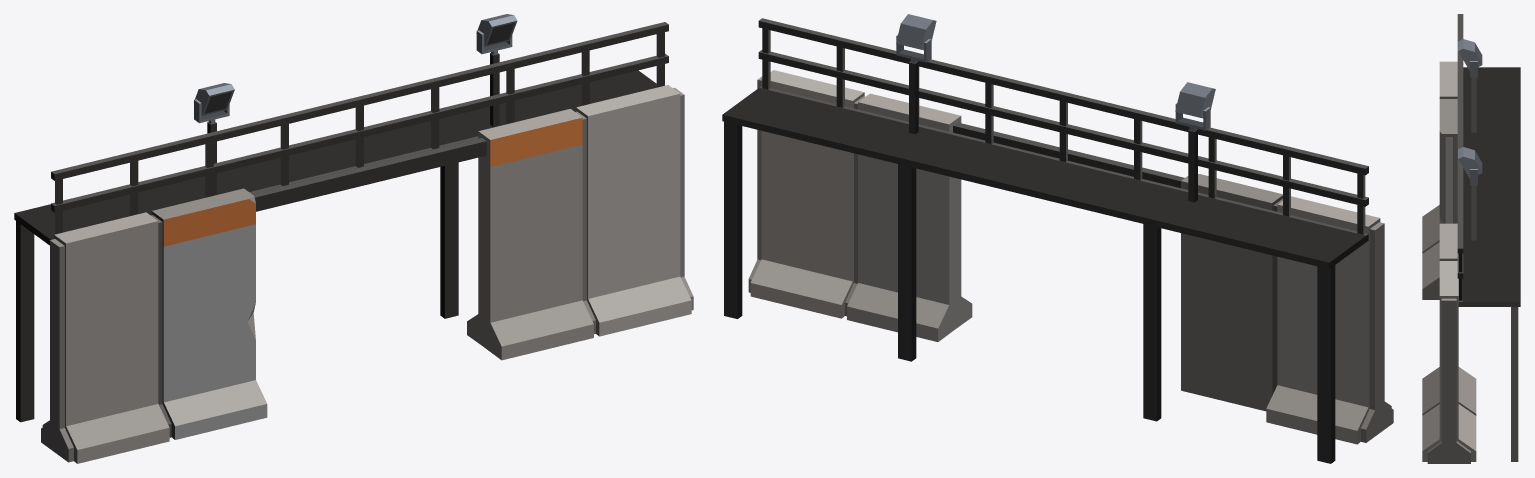
File: SecurityWallGate_01.fbx
The picture shows the model from 3 angles, left to right: view 1: azimuth 30°, elevation 25°; view 2: azimuth 150°, elevation 25°; view 3: azimuth 270°, elevation 25°; orthographic projection. The views are drawn at different scales.
Visible parts, largest first — view 1: SecurityWallGate_01; view 2: SecurityWallGate_01; view 3: SecurityWallGate_01.
Part boxes in pixels (left/top/right/bottom): SecurityWallGate_01: left=14, top=14, right=693, bottom=463; SecurityWallGate_01: left=722, top=14, right=1393, bottom=463; SecurityWallGate_01: left=1422, top=14, right=1520, bottom=463.
Size of the model in its own units: 15.24 by 2.66 by 7.38.
